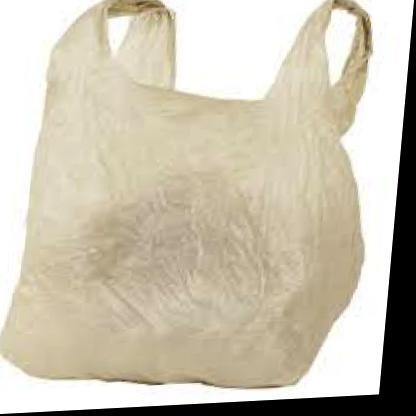trash: (1, 0, 371, 386)
